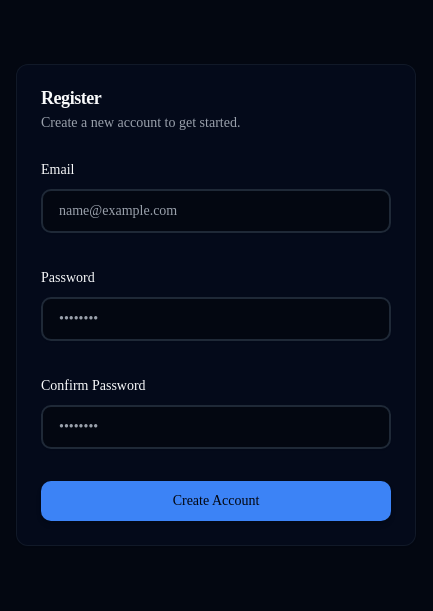
RegisterPage › shows an error message on failed submission
Type "fail@example.com" into the field labelled "Email".
click(216, 211); type("fail@example.com")  # box [41,189,391,233]
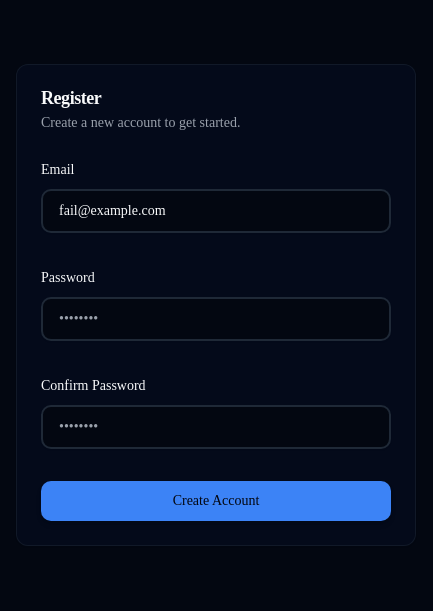
Type "password123" into the password field labelled "Password".
click(216, 319); type("password123")  # box [41,297,391,341]
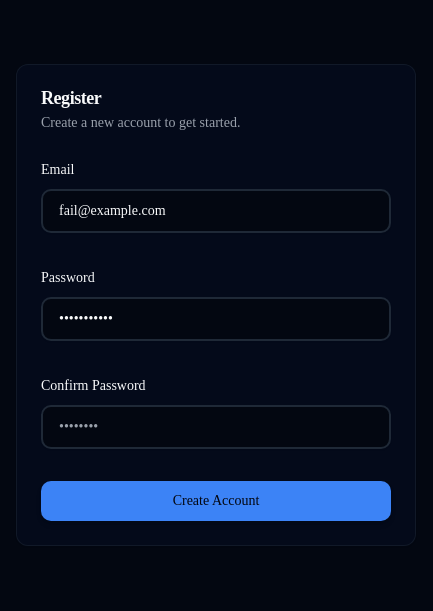
Type "password123" into the password field labelled "Confirm Password".
click(216, 427); type("password123")  # box [41,405,391,449]
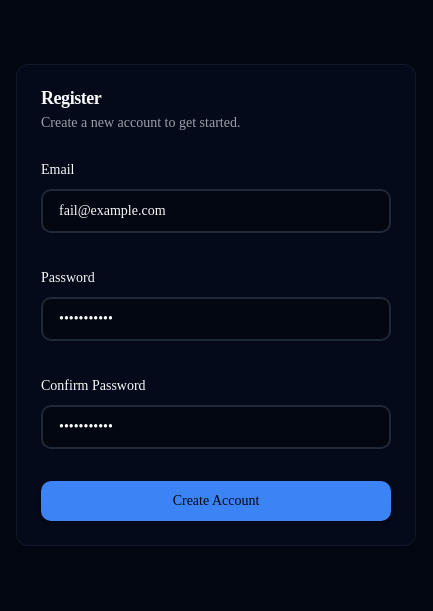
Click the button "Create Account".
click(216, 501)  # box [41,481,391,521]
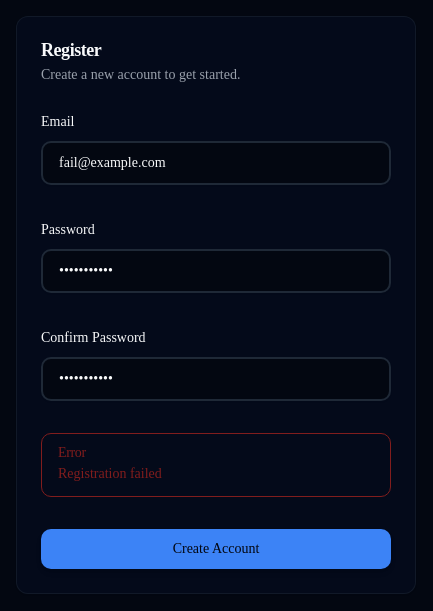
Expected: the text "Registration failed" is shown, [58,466,162,481]
